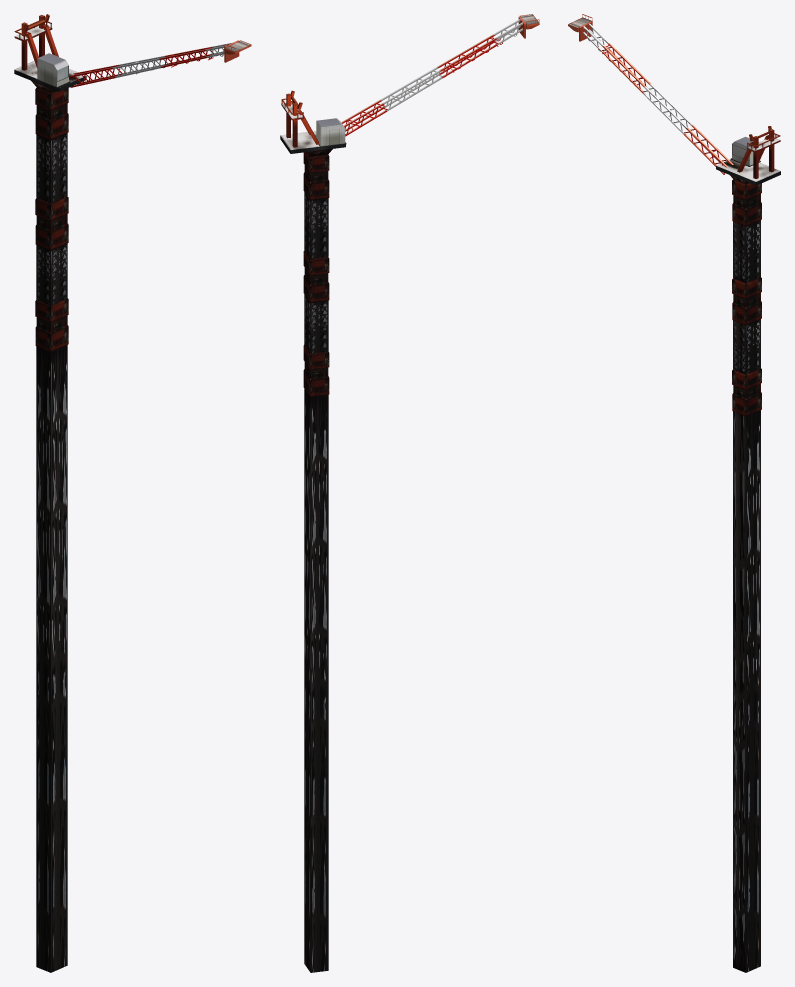
Rendered from kure-n3.obj.
3 renders of one model, left to right at view 1: azimuth 90°, elevation 25°; view 2: azimuth 150°, elevation 25°; view 3: azimuth 270°, elevation 25°, orthographic. The views are drawn at different scales.
Bounding box in the file's own units: 36.56 × 189 × 41.14.
Materials: 3 (3 with a texture image).
